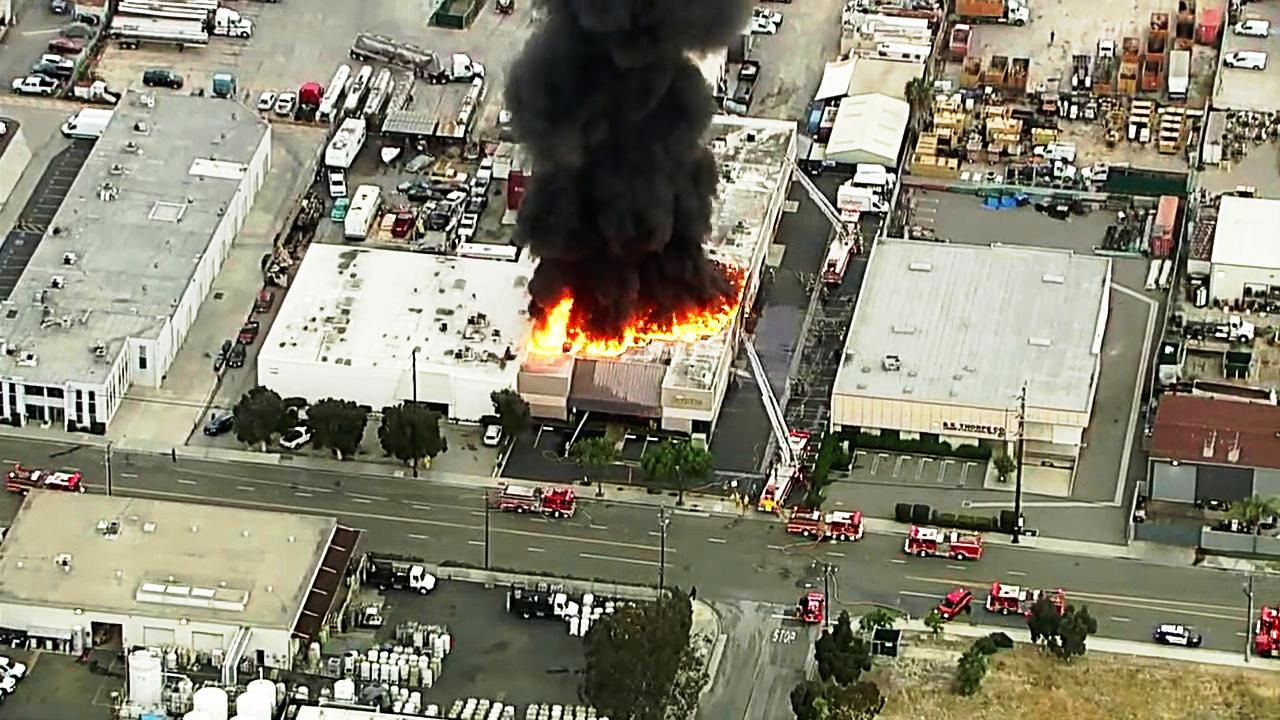fire: (535, 0, 693, 286), (603, 295, 737, 343), (530, 286, 575, 355)
